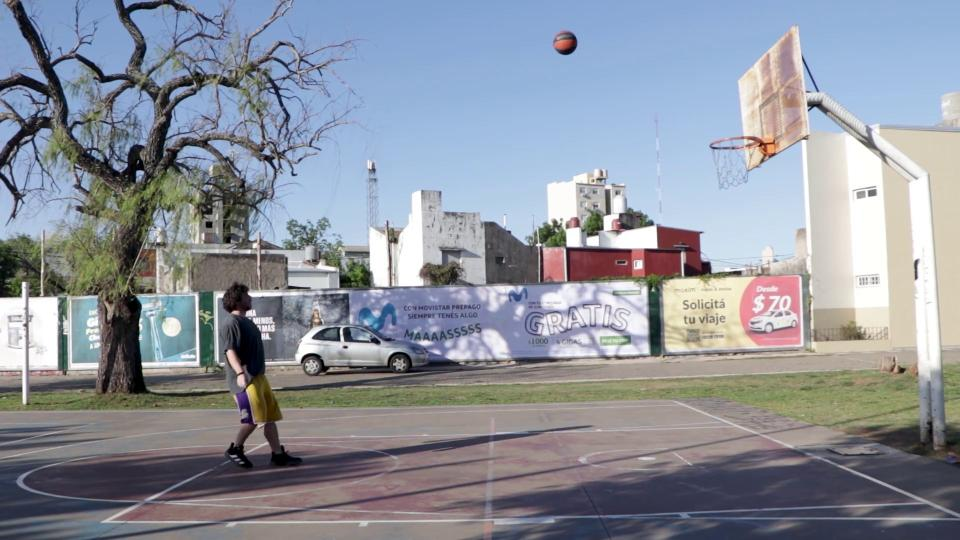hoop: (710, 136, 764, 151)
